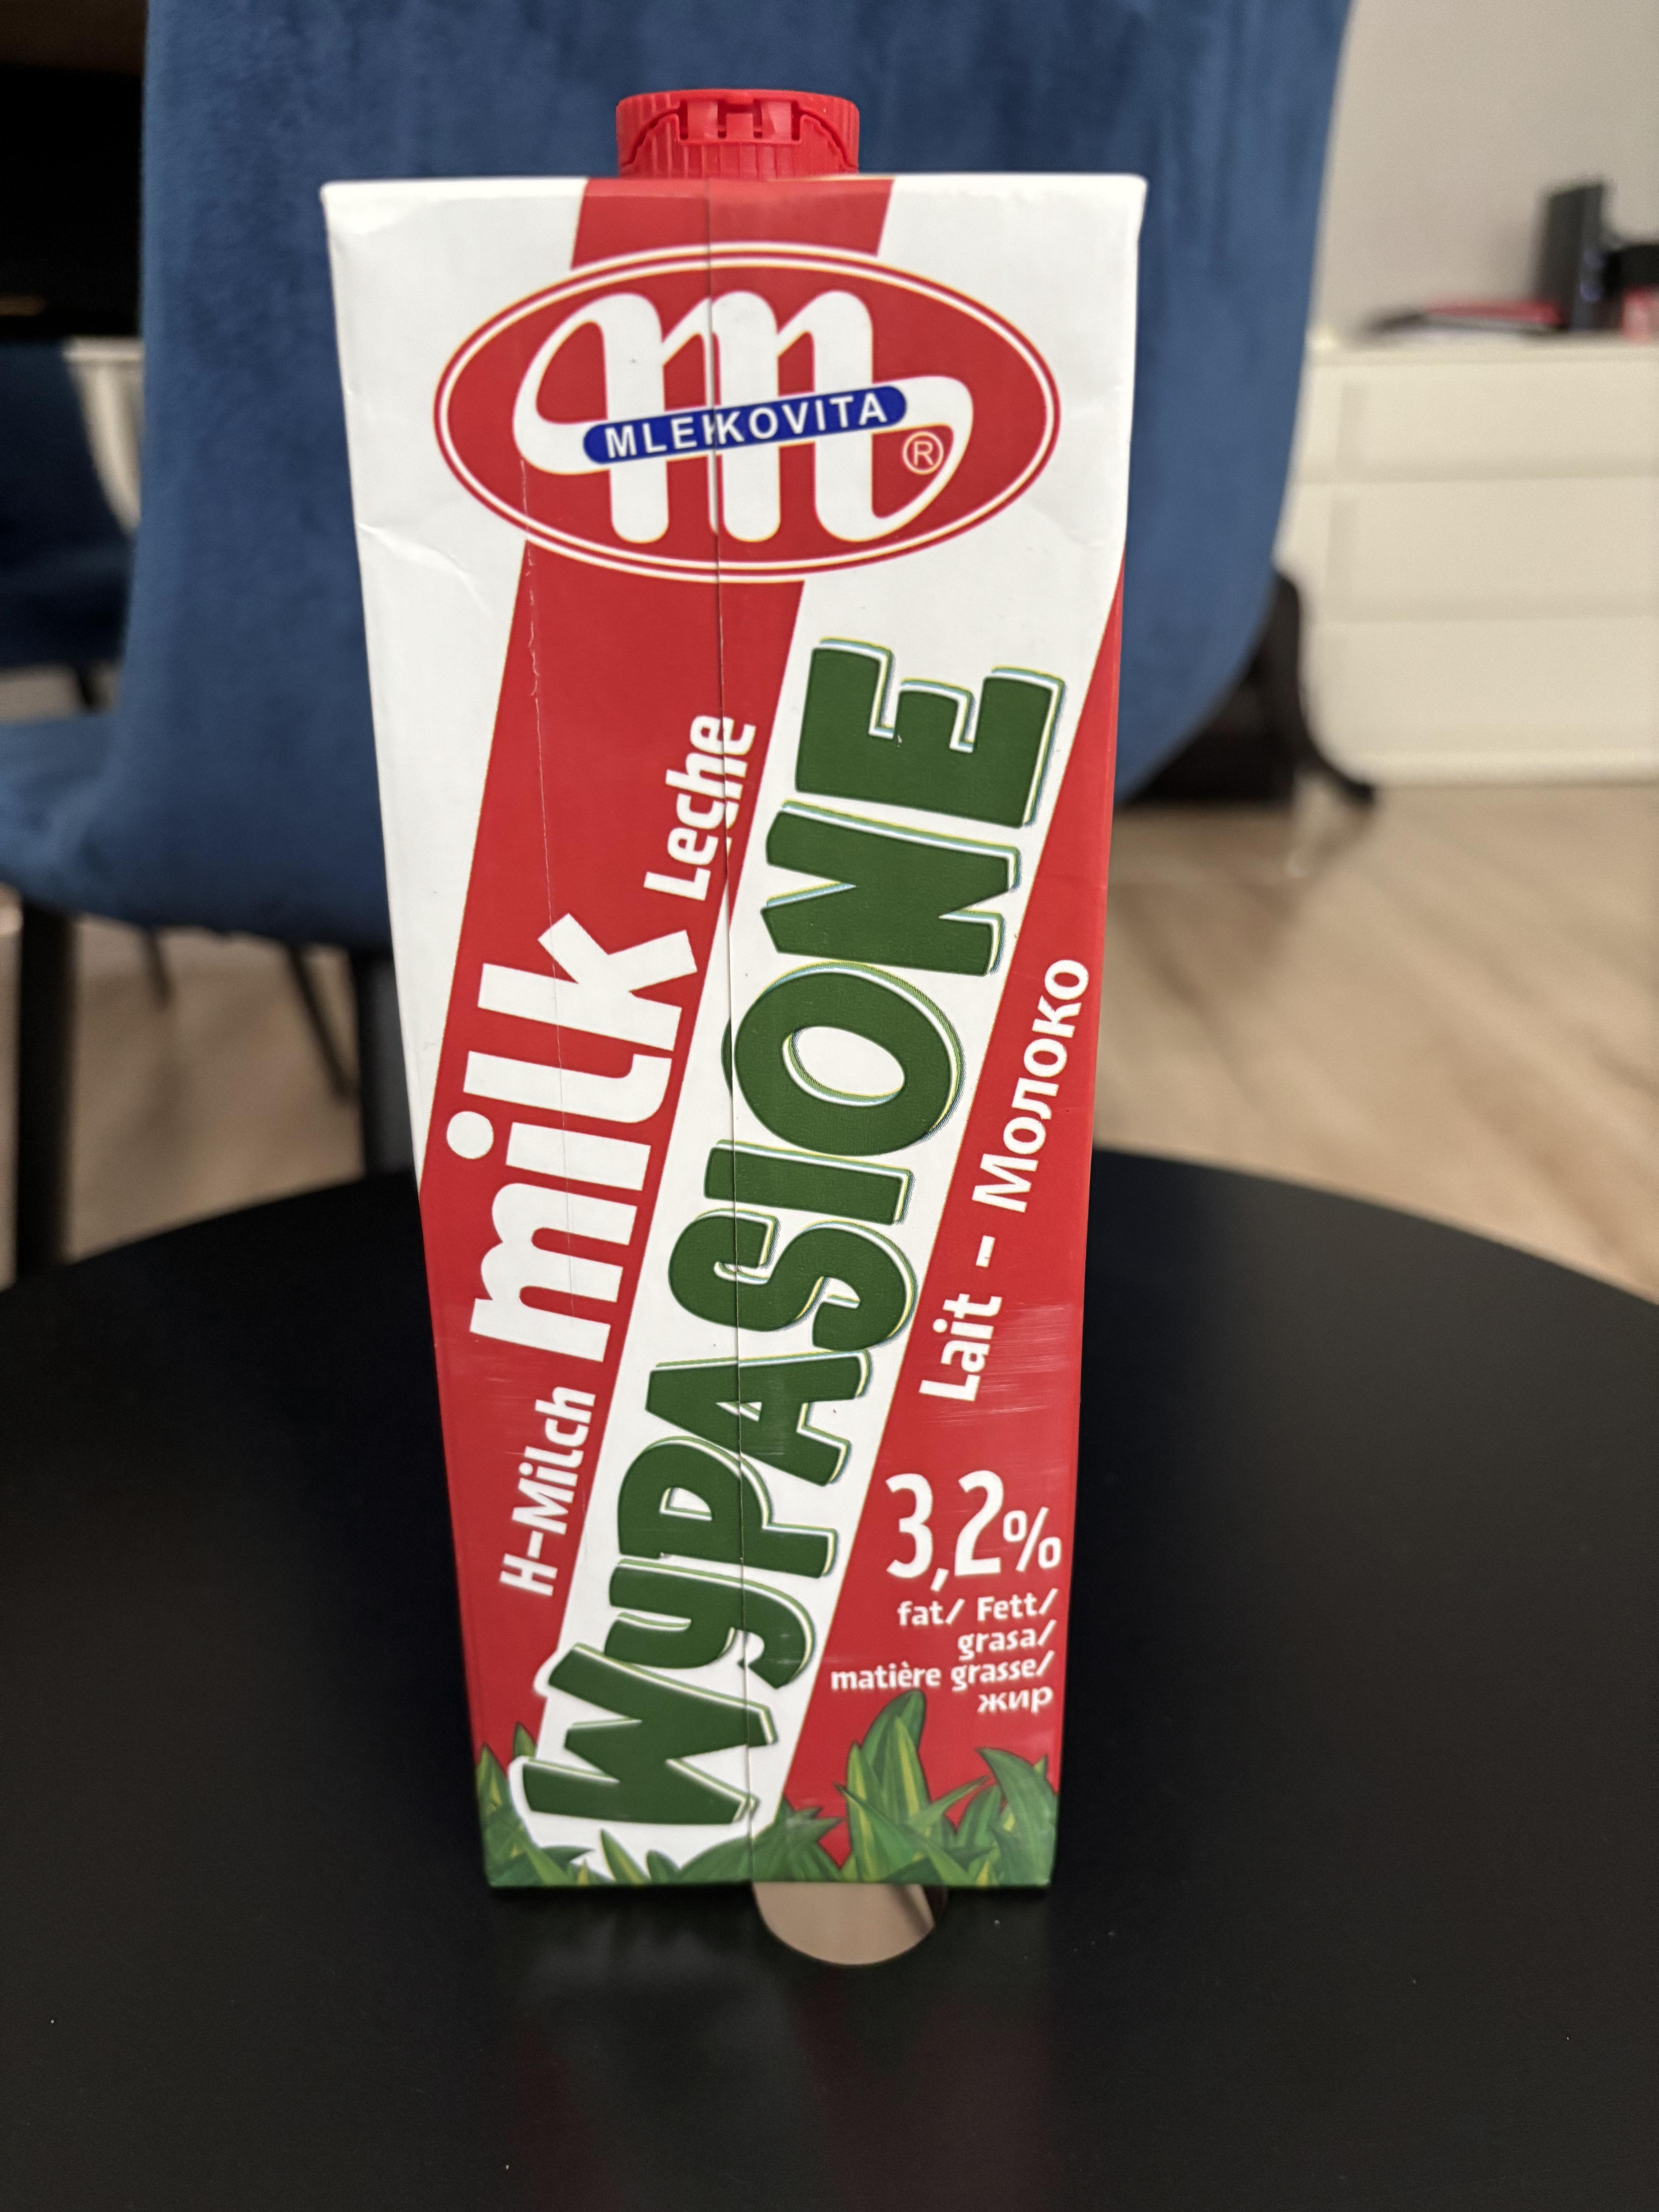Milk: (298, 157, 1093, 1925)
